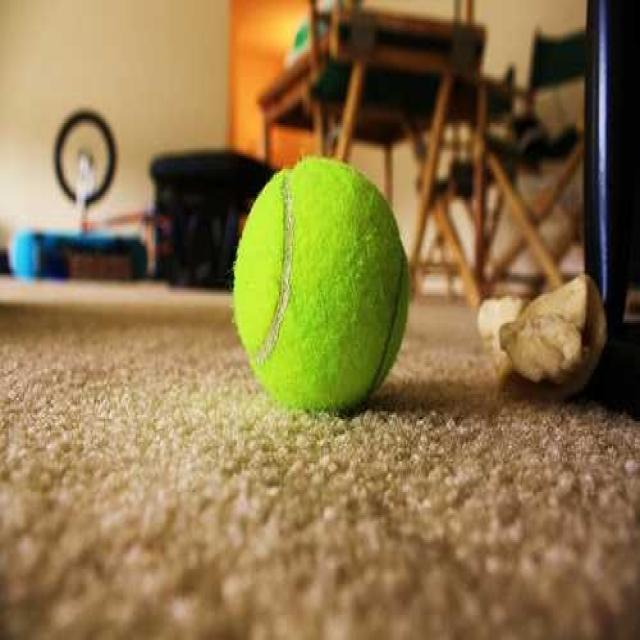Tennis_Ball: (228, 155, 410, 407)
